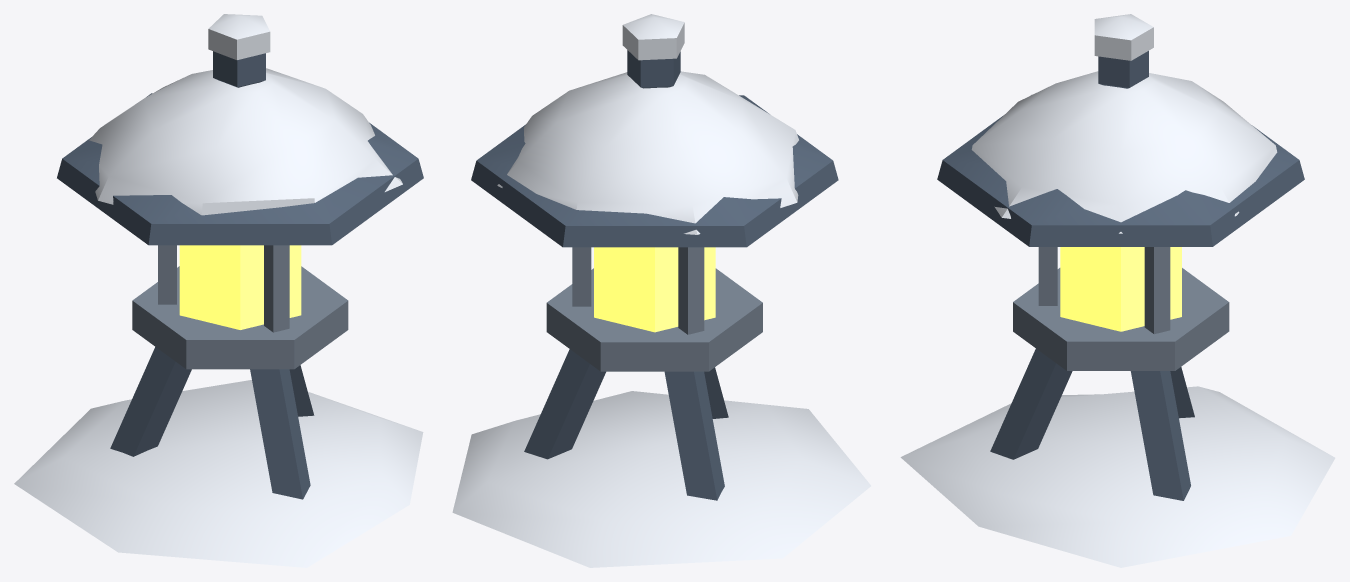
The model's file is snow_lantern.glb.
The picture shows the model from 3 angles, left to right: view 1: azimuth 30°, elevation 25°; view 2: azimuth 150°, elevation 25°; view 3: azimuth 270°, elevation 25°; orthographic projection.
Visible parts, largest first — view 1: snow_lantern; view 2: snow_lantern; view 3: snow_lantern.
Boxes of the visible parts, bbox=[...] form: snow_lantern: bbox=[14, 14, 423, 567]; snow_lantern: bbox=[452, 14, 870, 567]; snow_lantern: bbox=[900, 14, 1335, 567].
Size of the model in its own units: 0.7699 by 0.9569 by 0.8047.
